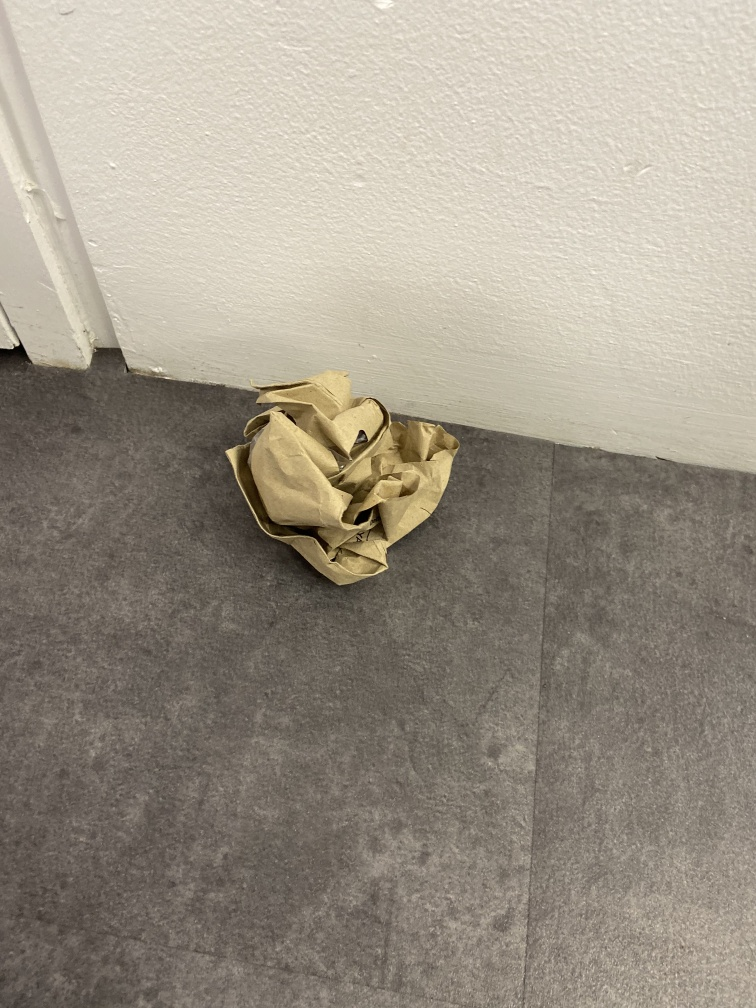paper_brown: (222, 366, 463, 593)
